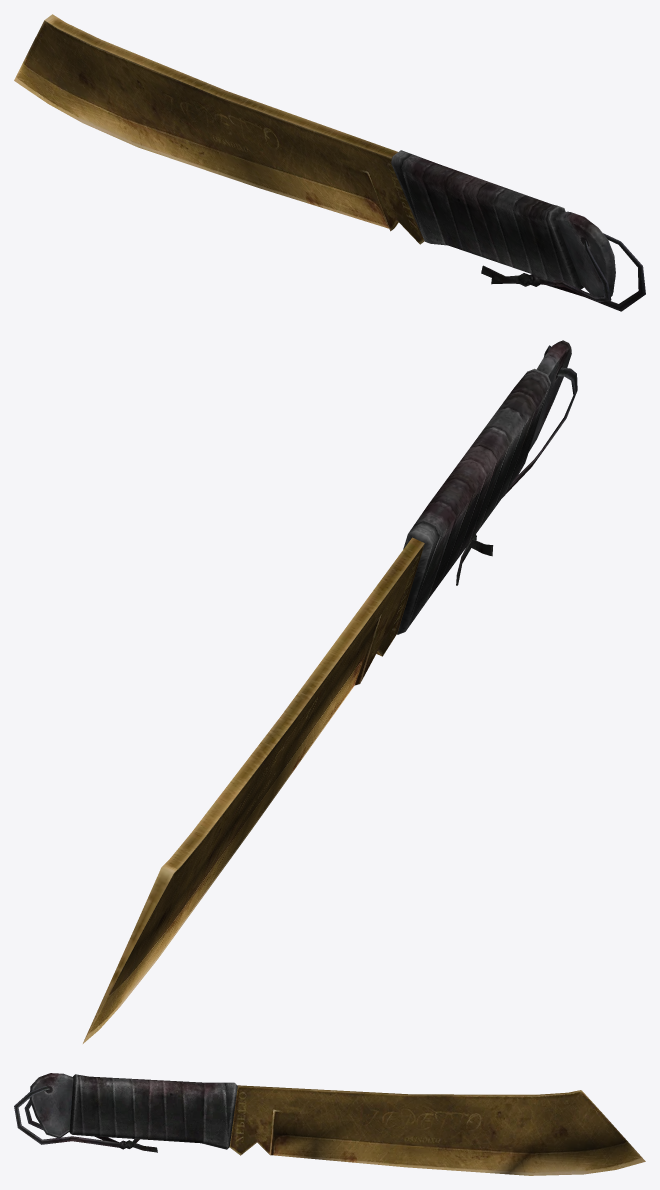
The model's file is GH5007_Gold.obj.
The picture shows the model from 3 angles, top to bottom: view 1: azimuth 30°, elevation 25°; view 2: azimuth 150°, elevation 25°; view 3: azimuth 270°, elevation 25°; orthographic projection. The views are drawn at different scales.
Parts seen in each view (by area): view 1: GH5007_Gold; view 2: GH5007_Gold; view 3: GH5007_Gold.
Boxes of the visible parts, x1,y1,x2,y2 form: GH5007_Gold: [14, 14, 645, 311]; GH5007_Gold: [83, 340, 577, 1043]; GH5007_Gold: [14, 1073, 645, 1175].
Bounding box in the file's own units: 0.0794 × 0.0968 × 0.4455.
1 material, 1 textured.
